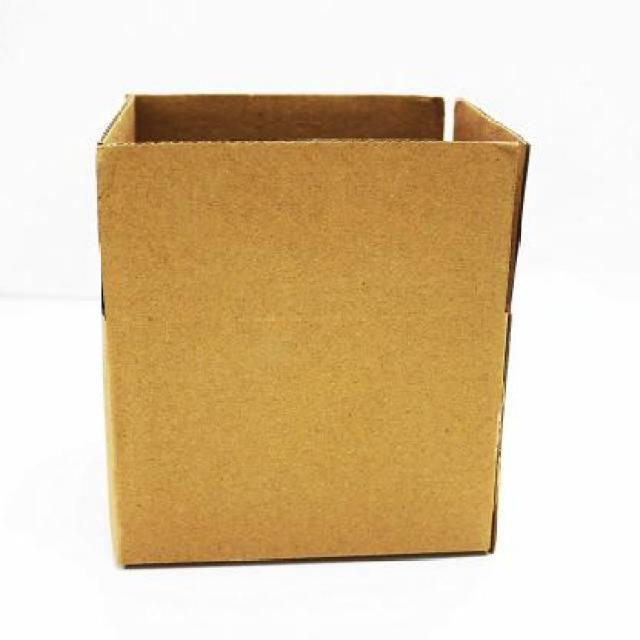box: (94, 89, 520, 581)
